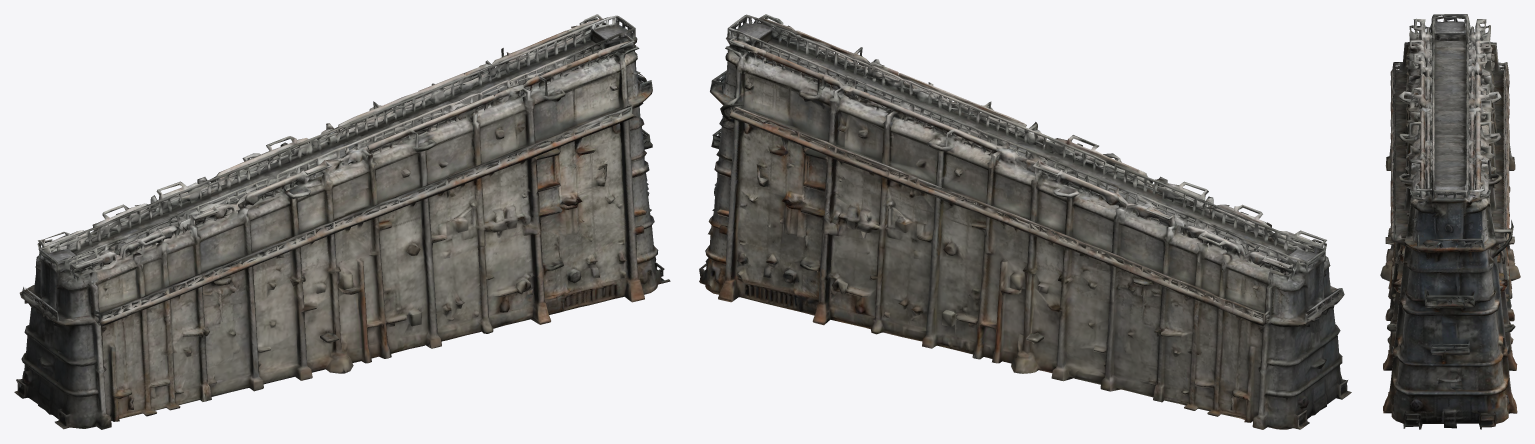
File: fort_foundry_wall.glb
3 views of the same model, side by side, from view 1: azimuth 30°, elevation 25°; view 2: azimuth 150°, elevation 25°; view 3: azimuth 270°, elevation 25° (orthographic). The views are drawn at different scales.
Parts seen in each view (by area): view 1: tripo_node_7bf7c6f7-7d96-4373-9d54-7b94cdd40c0a; view 2: tripo_node_7bf7c6f7-7d96-4373-9d54-7b94cdd40c0a; view 3: tripo_node_7bf7c6f7-7d96-4373-9d54-7b94cdd40c0a.
Boxes of the visible parts, x1=… form: tripo_node_7bf7c6f7-7d96-4373-9d54-7b94cdd40c0a: x1=14, y1=14, x2=670, y2=429; tripo_node_7bf7c6f7-7d96-4373-9d54-7b94cdd40c0a: x1=699, y1=14, x2=1351, y2=429; tripo_node_7bf7c6f7-7d96-4373-9d54-7b94cdd40c0a: x1=1380, y1=14, x2=1520, y2=429.
Size of the model in its own units: 1 by 0.3904 by 0.2141.
1 material, 1 textured.
